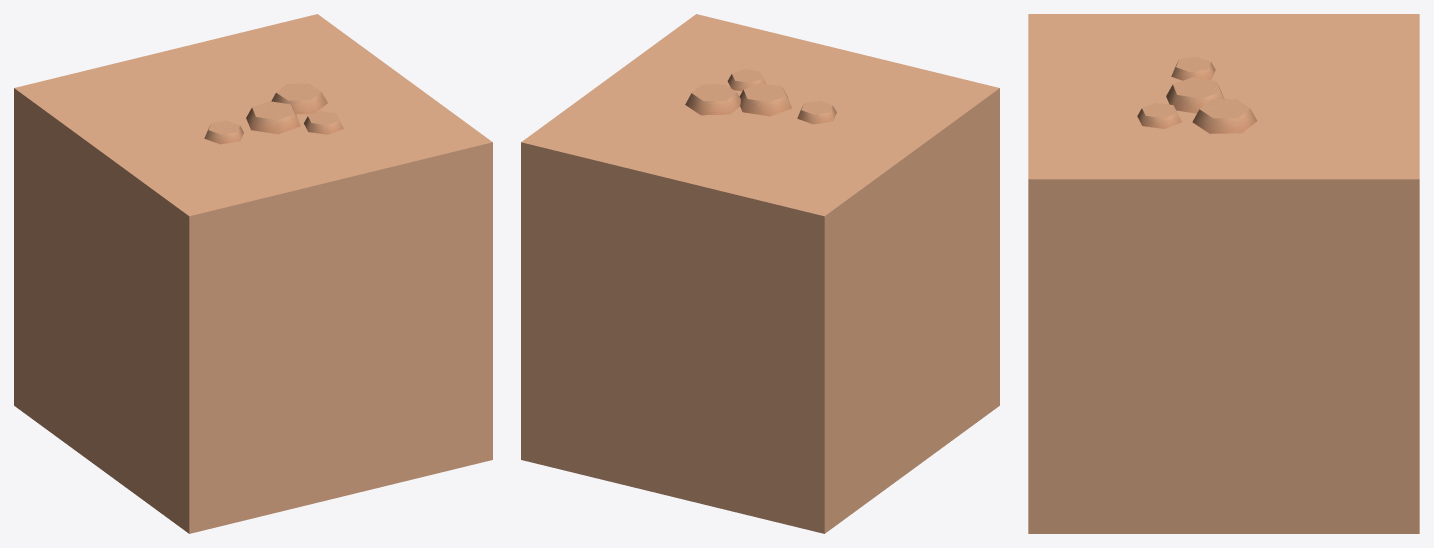
Rendered from patch-sand-foliage.030.glb.
3 renders of one model, left to right at view 1: azimuth 30°, elevation 25°; view 2: azimuth 150°, elevation 25°; view 3: azimuth 270°, elevation 25°, orthographic. The views are drawn at different scales.
Parts seen in each view (by area): view 1: patch-sand-foliage.030; view 2: patch-sand-foliage.030; view 3: patch-sand-foliage.030.
Boxes of the visible parts, x1,y1,x2,y2 form: patch-sand-foliage.030: [14, 14, 492, 533]; patch-sand-foliage.030: [521, 14, 999, 533]; patch-sand-foliage.030: [1028, 14, 1419, 533].
Bounding box in the file's own units: 0.574 × 0.5949 × 0.574.
2 materials, 2 textured.
